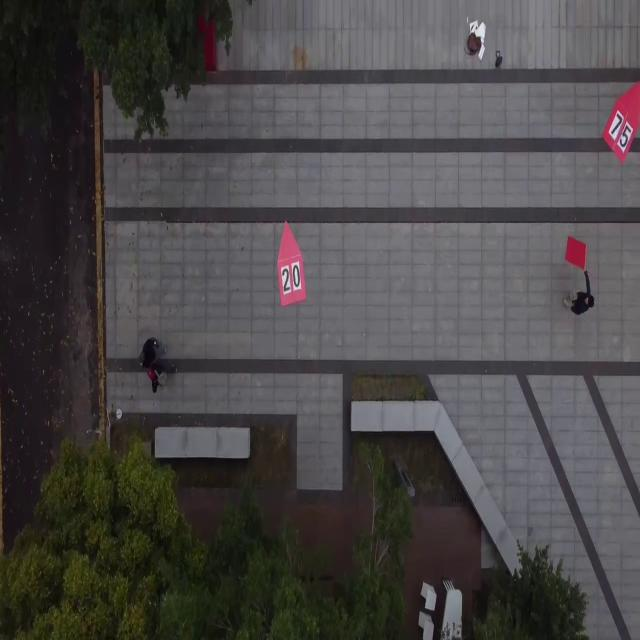-sign-: (601, 75, 640, 163), (276, 218, 306, 306), (564, 235, 588, 275)
